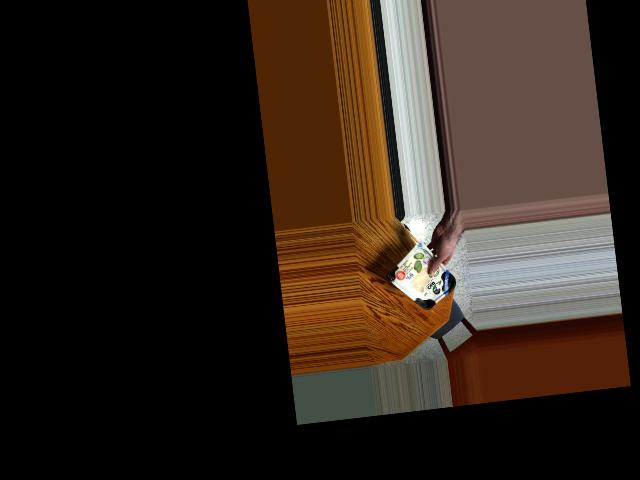cheese: (392, 250, 453, 313)
